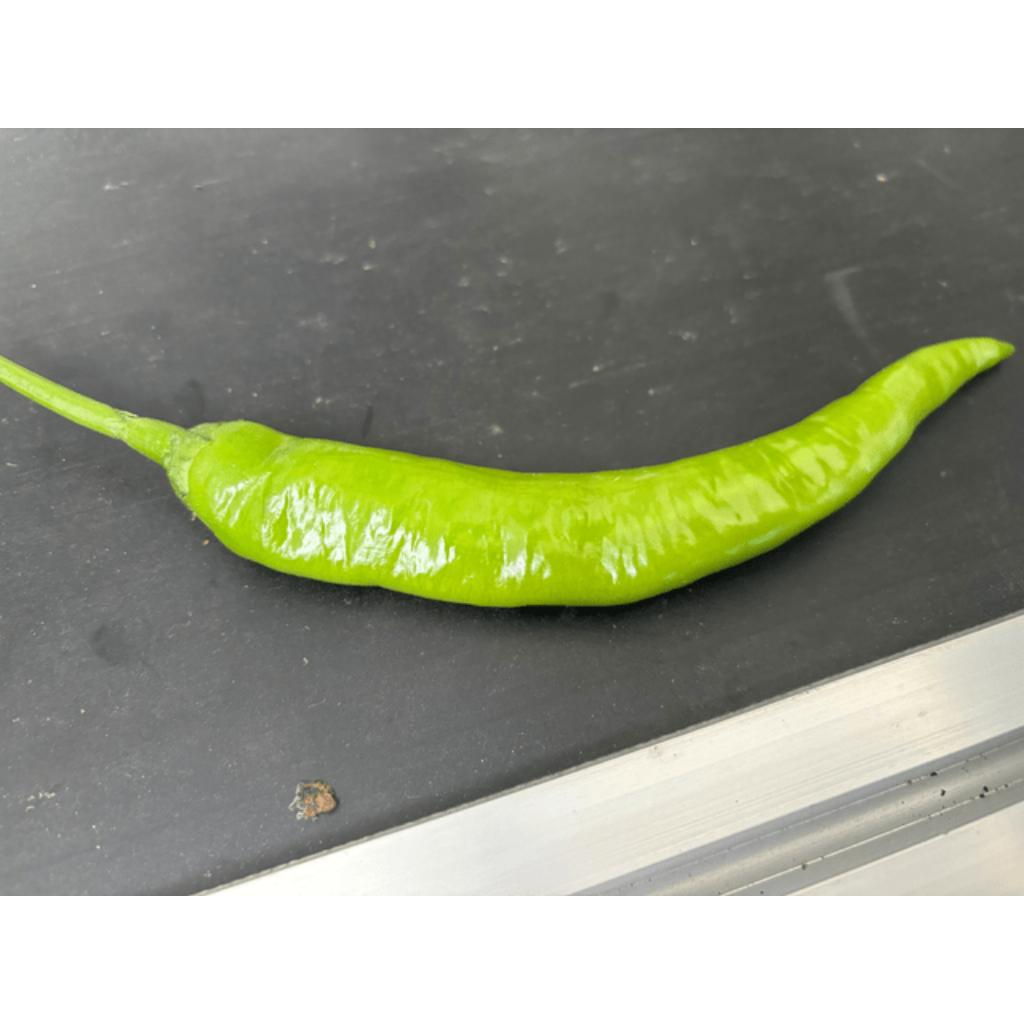chili: (164, 335, 1017, 611)
